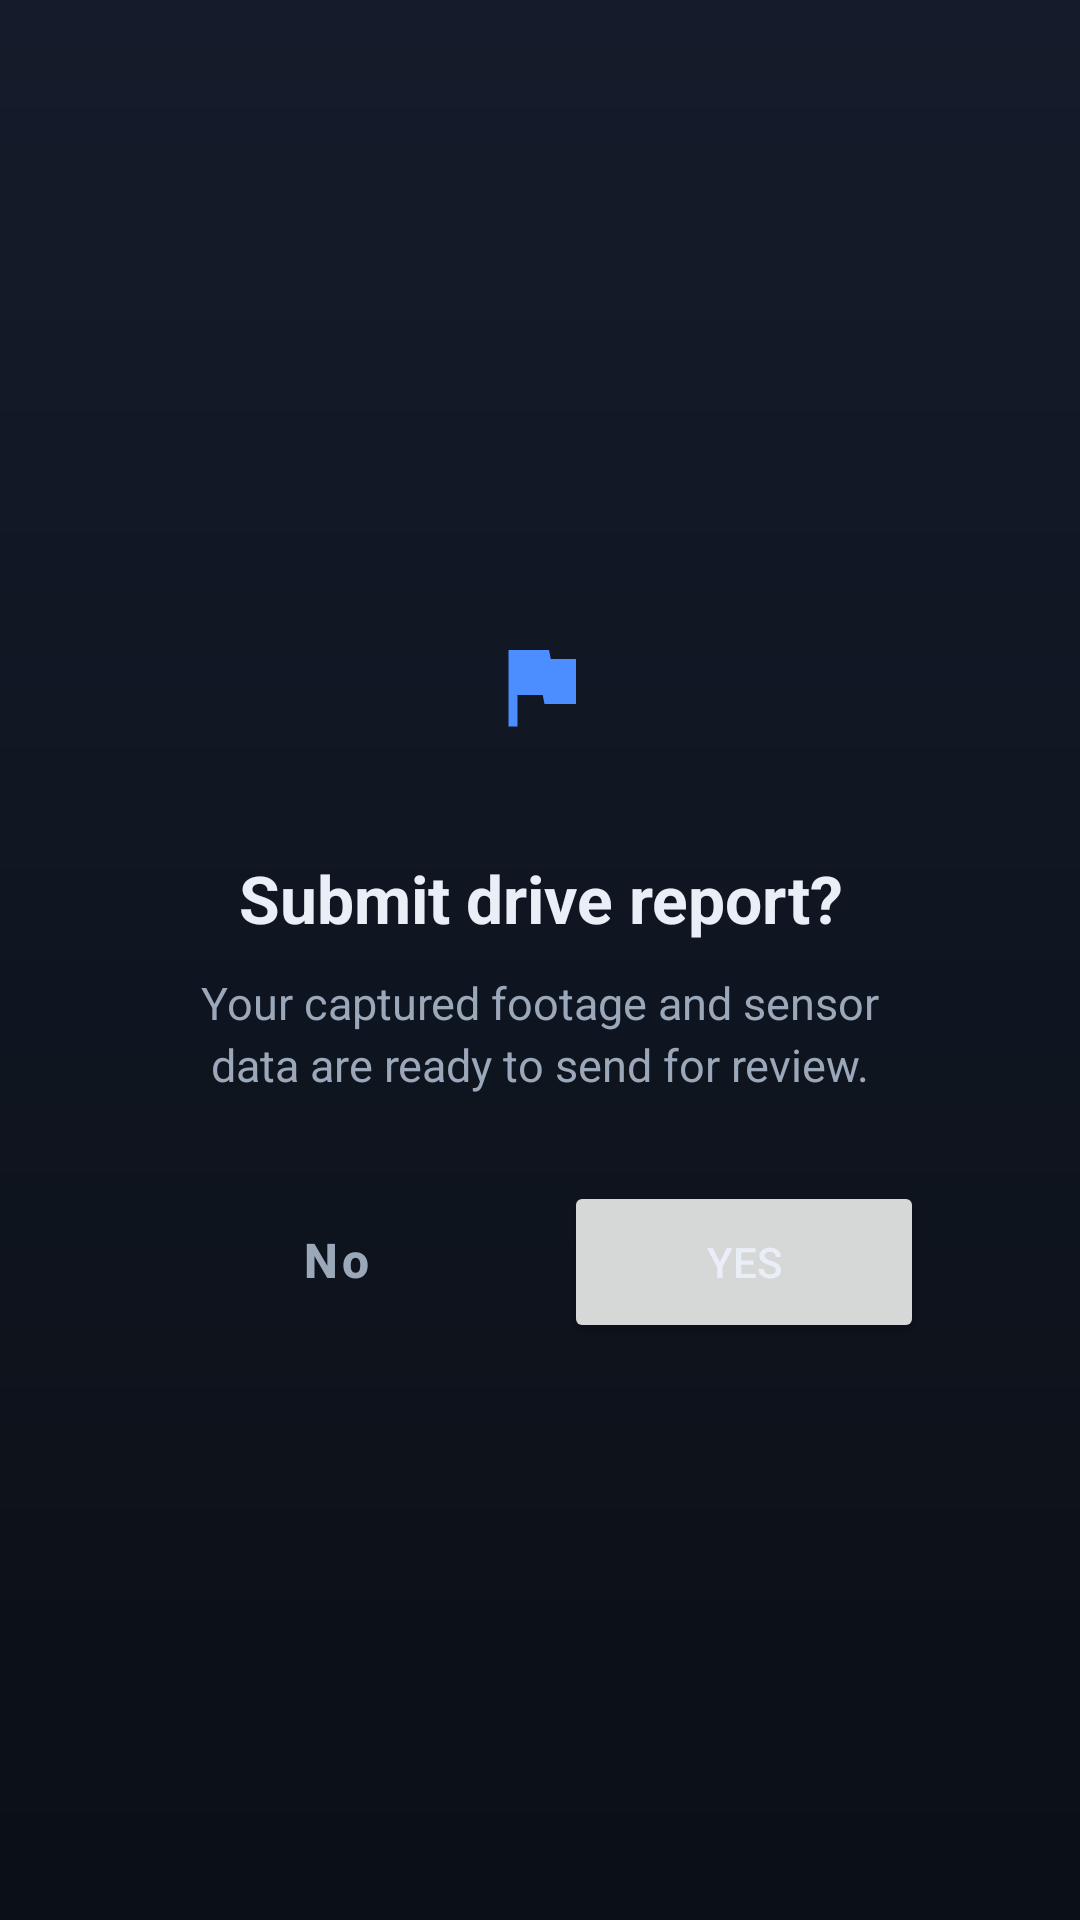

Screen size 1080*1920. Icon name, then its center in pixels as (x,y):
flag: (542,688)
